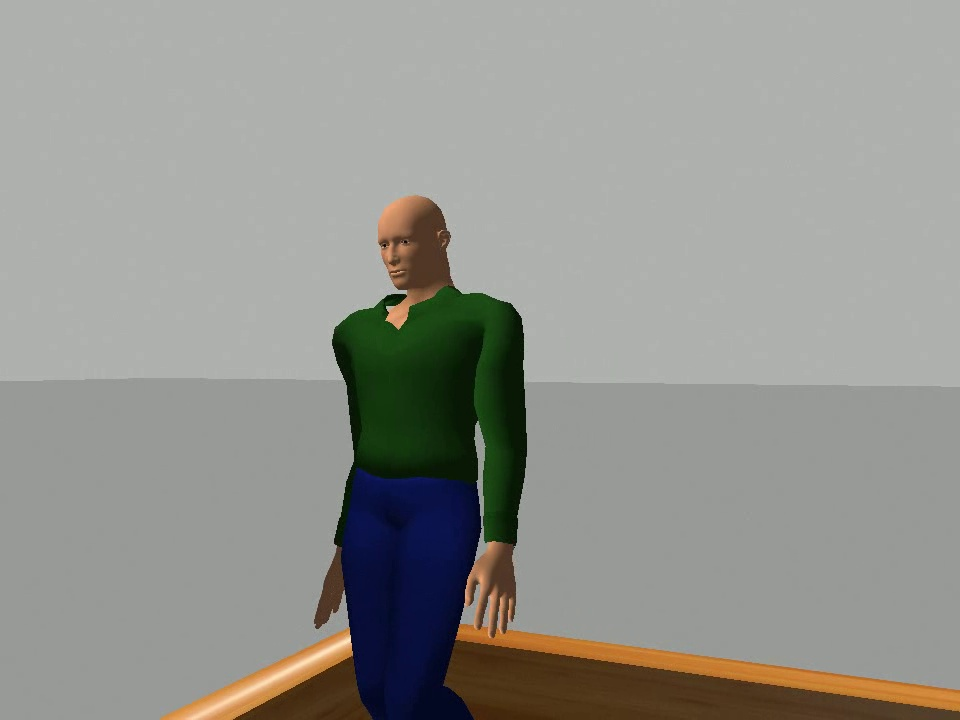person: (309, 188, 535, 719)
